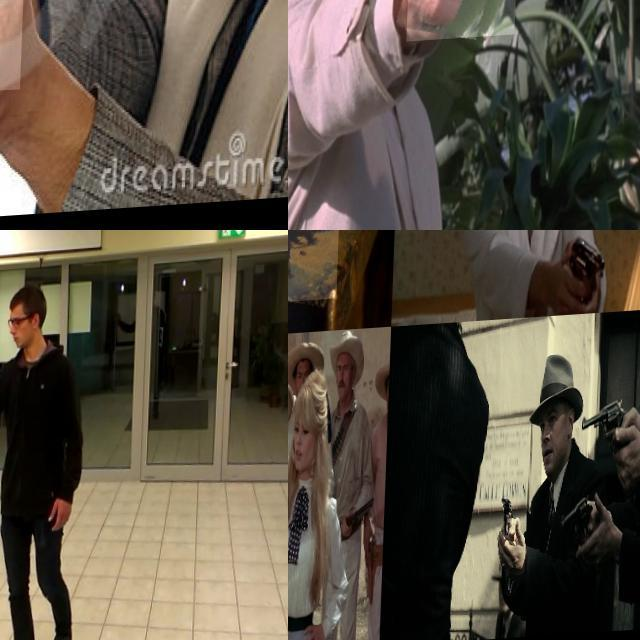gun-knife-thesis - v11 Yolov5 augmented: (0, 0, 110, 170), (409, 0, 523, 118), (288, 476, 356, 610), (573, 386, 639, 486), (288, 230, 353, 309), (491, 478, 526, 588), (558, 241, 610, 308), (0, 348, 19, 406)
